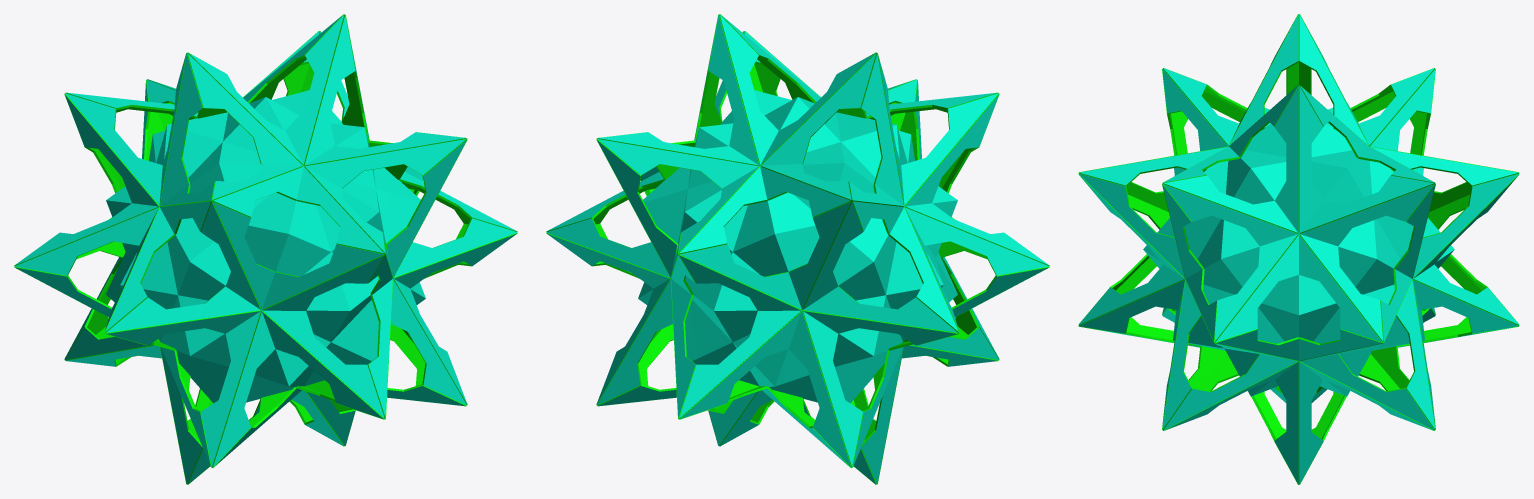
Rendered from GreatDodecicosacronS.glb.
3 renders of one model, left to right at view 1: azimuth 30°, elevation 25°; view 2: azimuth 150°, elevation 25°; view 3: azimuth 270°, elevation 25°, orthographic. The views are drawn at different scales.
Visible parts, largest first — view 1: Mesh_1002_1, Mesh_0013, Mesh_1002; view 2: Mesh_1002_1, Mesh_0013, Mesh_1002; view 3: Mesh_1002_1, Mesh_0013, Mesh_1002.
Boxes of the visible parts, left/top/right/bottom form: Mesh_1002_1: left=15, top=15, right=517, bottom=484; Mesh_0013: left=106, top=90, right=425, bottom=403; Mesh_1002: left=14, top=14, right=517, bottom=484; Mesh_1002_1: left=546, top=15, right=1048, bottom=484; Mesh_0013: left=638, top=90, right=957, bottom=403; Mesh_1002: left=546, top=14, right=1049, bottom=484; Mesh_1002_1: left=1079, top=14, right=1518, bottom=484; Mesh_0013: left=1143, top=102, right=1454, bottom=396; Mesh_1002: left=1078, top=14, right=1519, bottom=484.
Size of the model in its own units: 10.15 by 10.15 by 10.15.
